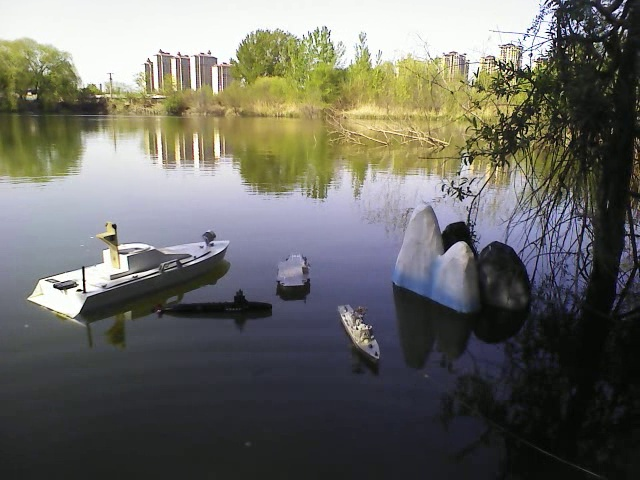aircraft_carrier: (274, 249, 313, 297)
boat: (33, 237, 226, 316)
iceberg: (394, 204, 483, 316)
rock: (443, 215, 533, 318)
submarine: (151, 288, 277, 321)
warship: (333, 299, 389, 366)
